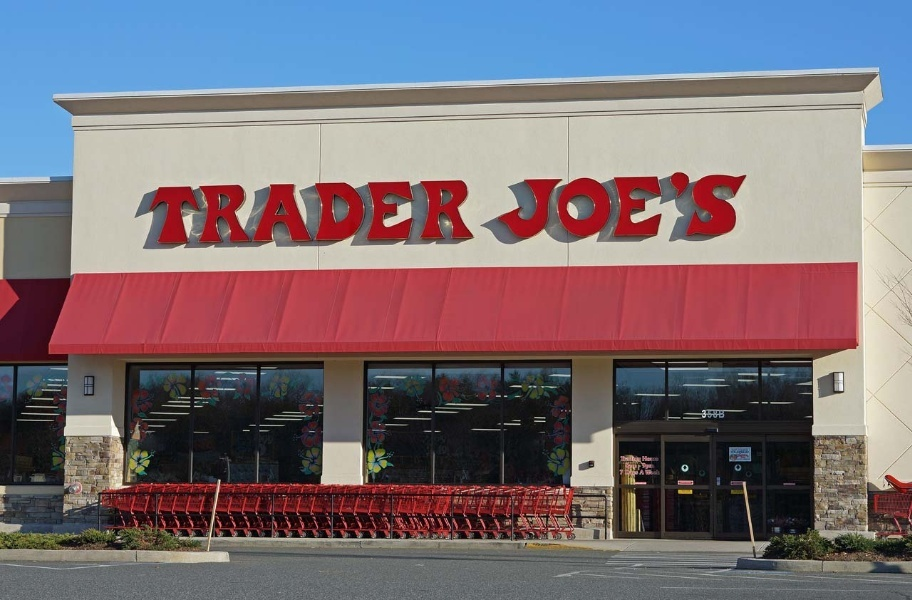text: (513, 171, 528, 240), (529, 171, 544, 240), (545, 171, 560, 240), (561, 171, 576, 240), (577, 171, 592, 240), (593, 171, 608, 240), (609, 171, 624, 240), (625, 171, 640, 240), (641, 171, 656, 240), (657, 171, 672, 240), (673, 171, 688, 240), (689, 171, 704, 240), (705, 171, 720, 240), (721, 171, 736, 240), (161, 181, 176, 247), (177, 181, 192, 247), (193, 181, 208, 247), (209, 181, 224, 247), (225, 181, 240, 247), (241, 181, 256, 247), (257, 181, 272, 247), (273, 181, 288, 247), (289, 181, 304, 247), (305, 181, 320, 247), (321, 181, 336, 247), (337, 181, 352, 247), (353, 181, 368, 247), (369, 181, 384, 247), (385, 181, 400, 247), (401, 181, 416, 247), (417, 181, 432, 247), (433, 181, 448, 247), (449, 181, 464, 247), (499, 171, 512, 240), (465, 181, 476, 247), (737, 171, 747, 240), (152, 181, 160, 247), (705, 410, 720, 420), (625, 455, 640, 463), (641, 455, 656, 463), (625, 470, 640, 477), (641, 470, 656, 477), (625, 462, 640, 469), (641, 462, 656, 469), (737, 449, 751, 454), (721, 410, 726, 420), (619, 469, 624, 477), (657, 470, 662, 477), (620, 455, 624, 463), (731, 449, 736, 454), (657, 455, 660, 463), (702, 410, 704, 420)
